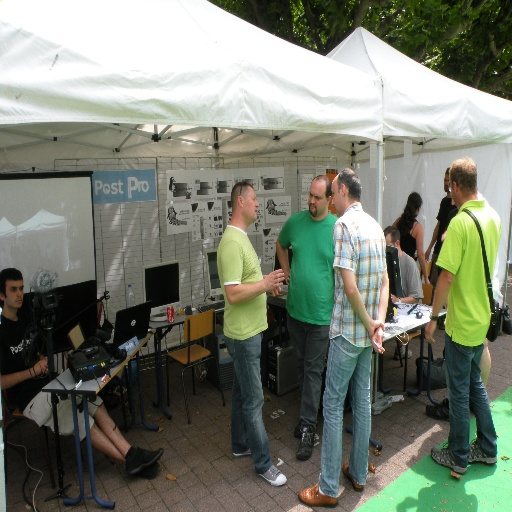hand: (370, 327, 386, 355), (368, 317, 387, 340), (424, 318, 438, 345), (265, 271, 284, 289), (35, 358, 48, 374), (271, 282, 283, 299), (391, 294, 399, 303), (424, 251, 429, 261), (426, 280, 429, 284)
